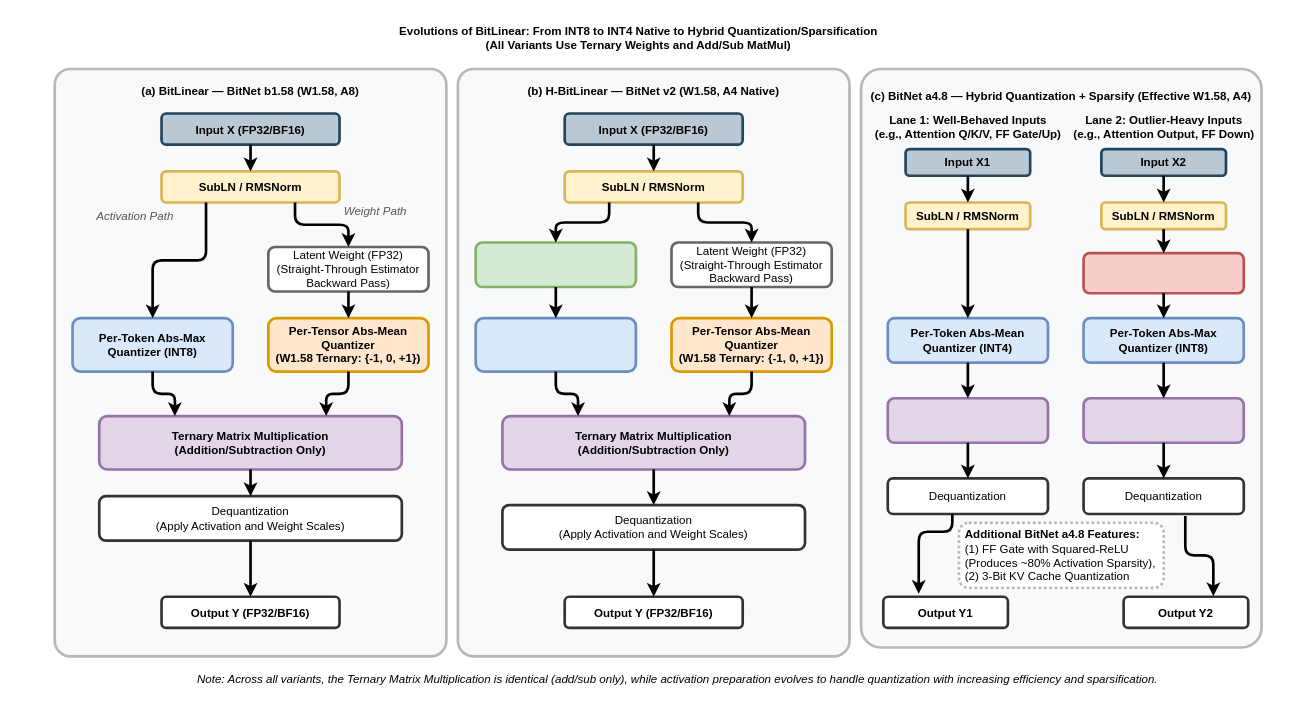
The diagram is 1315 pixels wide and 707 high, and some of its shapes have lost their labels. The centre of each missing label's shape, as x and y in pixels:
"Online Hadamard Rotation (Spreads Outlier Energy)" belongs at pixel 555 264.
"Per-Token Abs-Max Quantizer (INT4)" belongs at pixel 555 344.
"Ternary MatMul (W1 Ternary)" belongs at pixel 967 420.
"Ternary MatMul (W2 Ternary)" belongs at pixel 1163 420.
"Top-K Sparsification (Keep ~50% Active)" belongs at pixel 1163 272.
